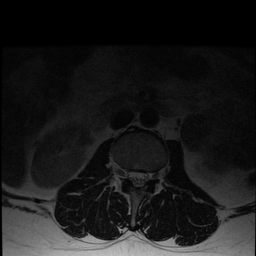CCS_stenosis: (135, 162, 141, 194)
LFS_normal: (149, 161, 156, 187)
LLS_normal: (141, 162, 149, 190)
RFS_normal: (119, 159, 127, 186)
RLS_normal: (127, 162, 134, 189)
